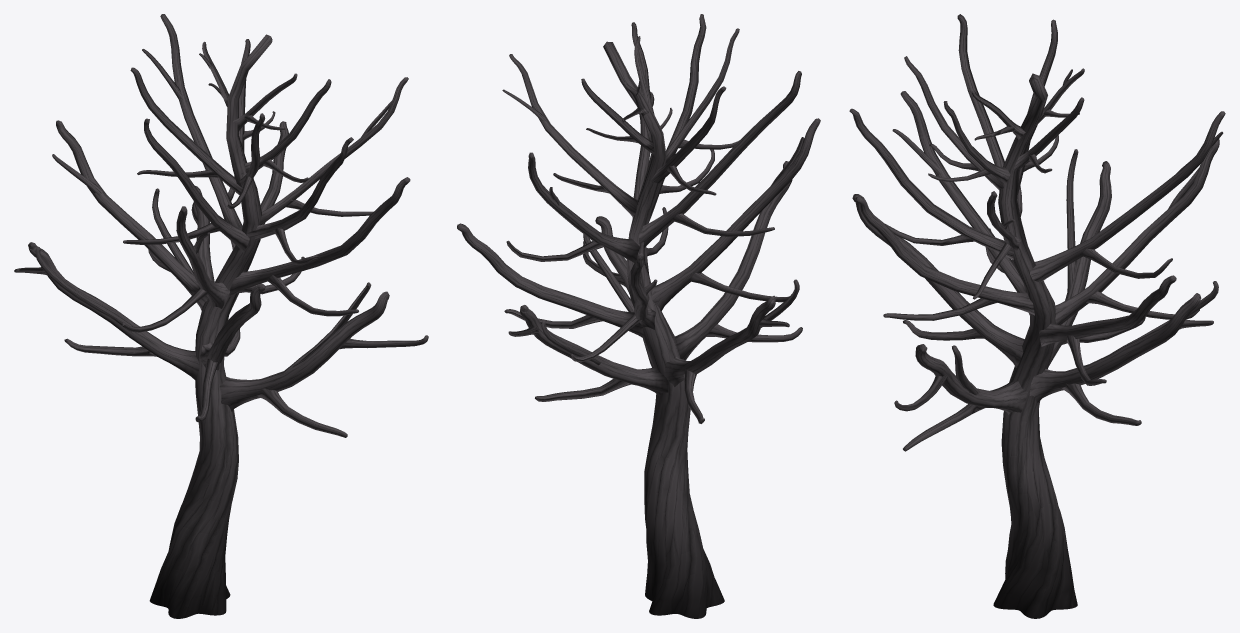
Rendered from DeadTree_1.gltf.
3 renders of one model, left to right at view 1: azimuth 30°, elevation 25°; view 2: azimuth 150°, elevation 25°; view 3: azimuth 270°, elevation 25°, orthographic. The views are drawn at different scales.
Visible parts, largest first — view 1: DeadTree_1; view 2: DeadTree_1; view 3: DeadTree_1.
Part boxes in pixels (bbox=[...]): DeadTree_1: bbox=[14, 14, 428, 618]; DeadTree_1: bbox=[457, 14, 820, 618]; DeadTree_1: bbox=[849, 14, 1225, 618].
Bounding box in the file's own units: 6.15 × 9.5 × 5.75.
Materials: 1 (1 with a texture image).
